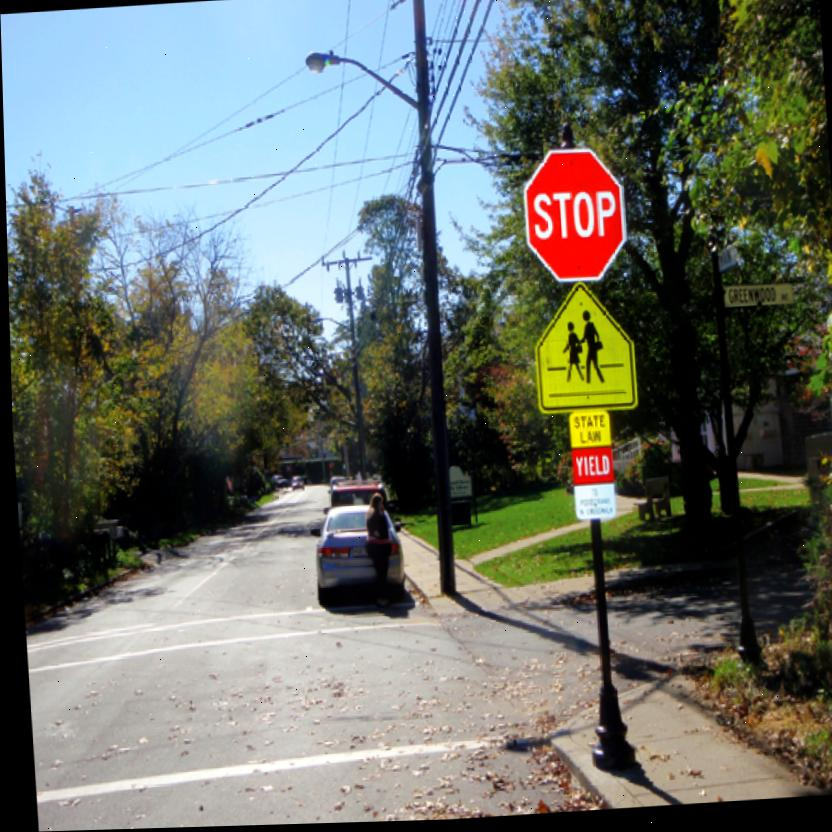Pole: (712, 309, 751, 674), (582, 523, 619, 768)
Sign: (520, 151, 628, 288)
